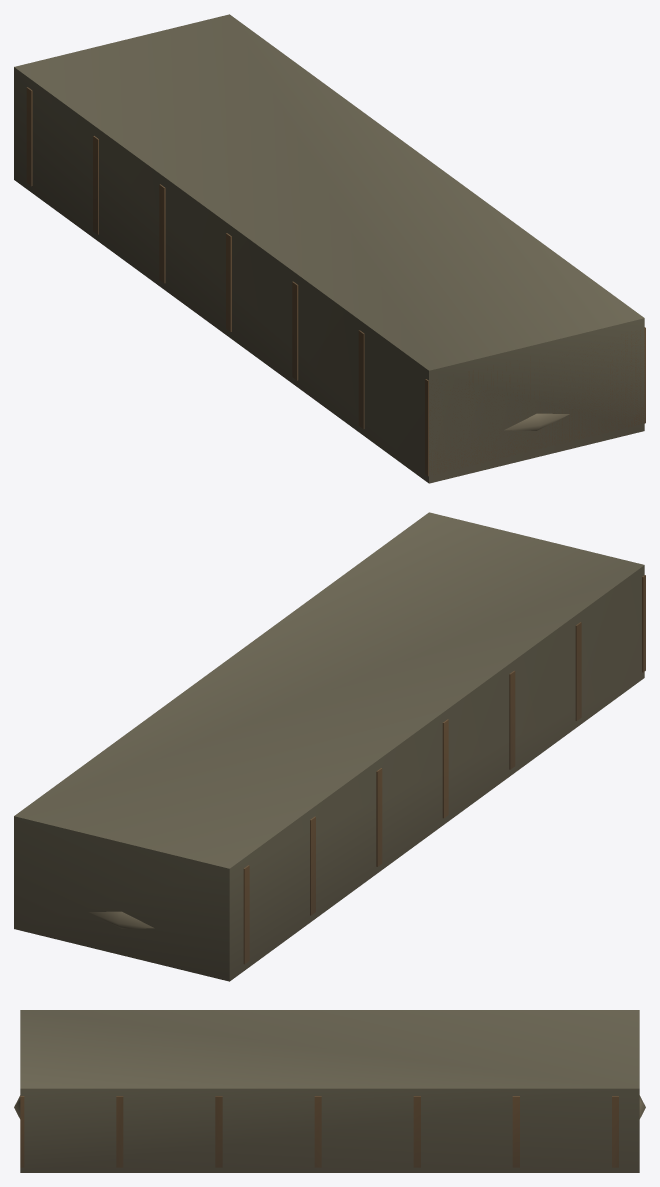
The model's file is m01_forward_post_destroyed_lod0.glb.
The picture shows the model from 3 angles, top to bottom: view 1: azimuth 30°, elevation 25°; view 2: azimuth 150°, elevation 25°; view 3: azimuth 270°, elevation 25°; orthographic projection. The views are drawn at different scales.
Visible parts, largest first — view 1: forward_post; view 2: forward_post; view 3: forward_post.
Boxes of the visible parts, <box> form: forward_post: <box>14,14,645,483</box>; forward_post: <box>14,512,645,981</box>; forward_post: <box>14,1010,645,1172</box>.
Size of the model in its own units: 0.91 by 0.45 by 3.06.
